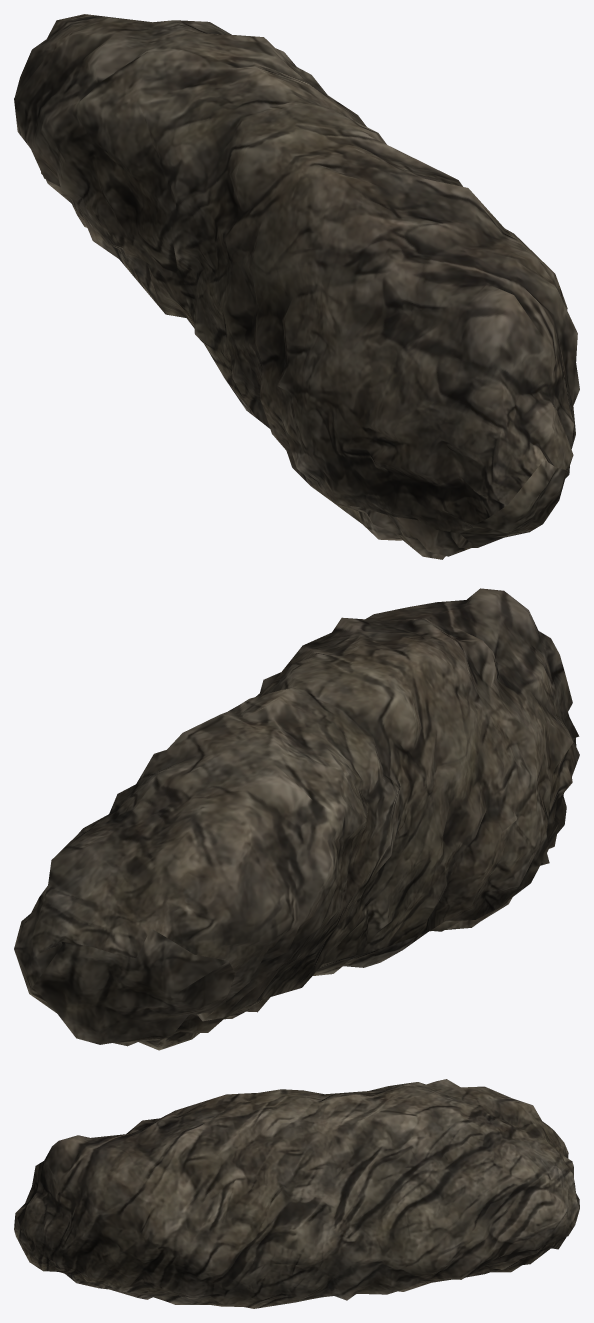
The model's file is MEP_C_Rock_01_N.fbx.
3 views of the same model, one above another, from view 1: azimuth 30°, elevation 25°; view 2: azimuth 150°, elevation 25°; view 3: azimuth 270°, elevation 25° (orthographic). The views are drawn at different scales.
Visible parts, largest first — view 1: MEP_C_Rock_01; view 2: MEP_C_Rock_01; view 3: MEP_C_Rock_01.
Boxes of the visible parts, x1=… form: MEP_C_Rock_01: x1=14, y1=14, x2=579, y2=559; MEP_C_Rock_01: x1=14, y1=588, x2=579, y2=1050; MEP_C_Rock_01: x1=14, y1=1079, x2=579, y2=1308.
Size of what is drawn, in the model's own units: 153 by 170 by 423.
1 material, 1 textured.
